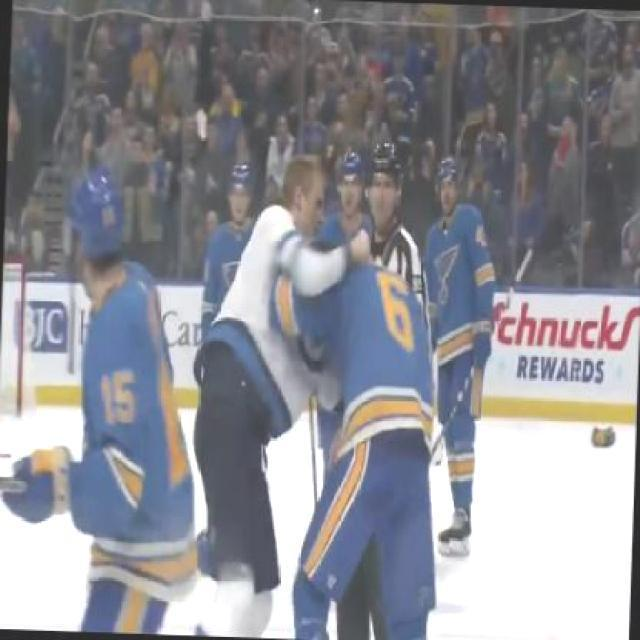fight: (194, 154, 443, 534)
